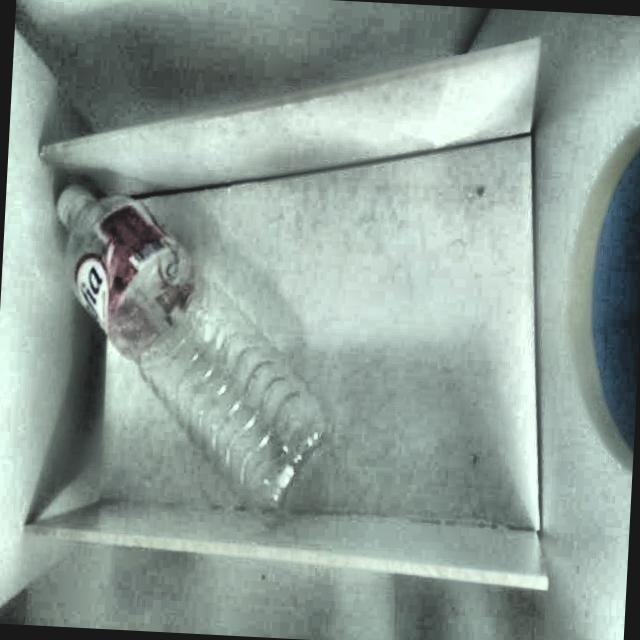plastic bottle: (41, 181, 342, 510)
